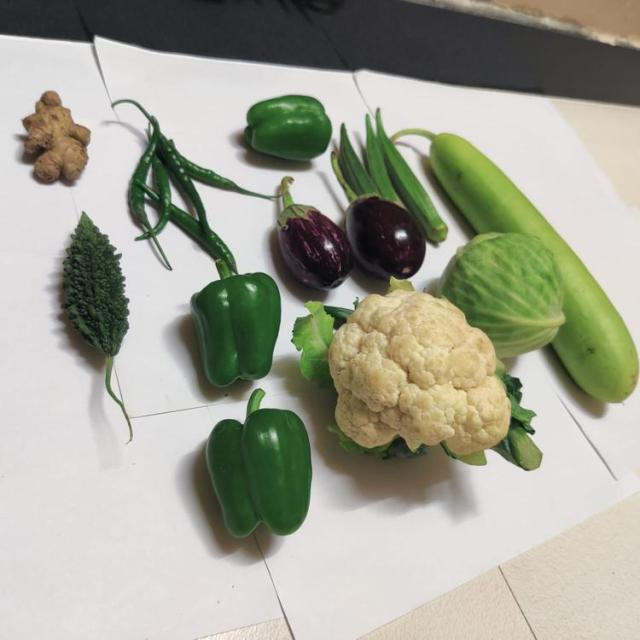Organik: (319, 281, 527, 458), (198, 389, 316, 545), (60, 202, 138, 435), (119, 104, 223, 234), (190, 256, 283, 386), (450, 229, 556, 337), (276, 179, 356, 289), (20, 88, 94, 193), (340, 186, 422, 273), (241, 90, 333, 164)
